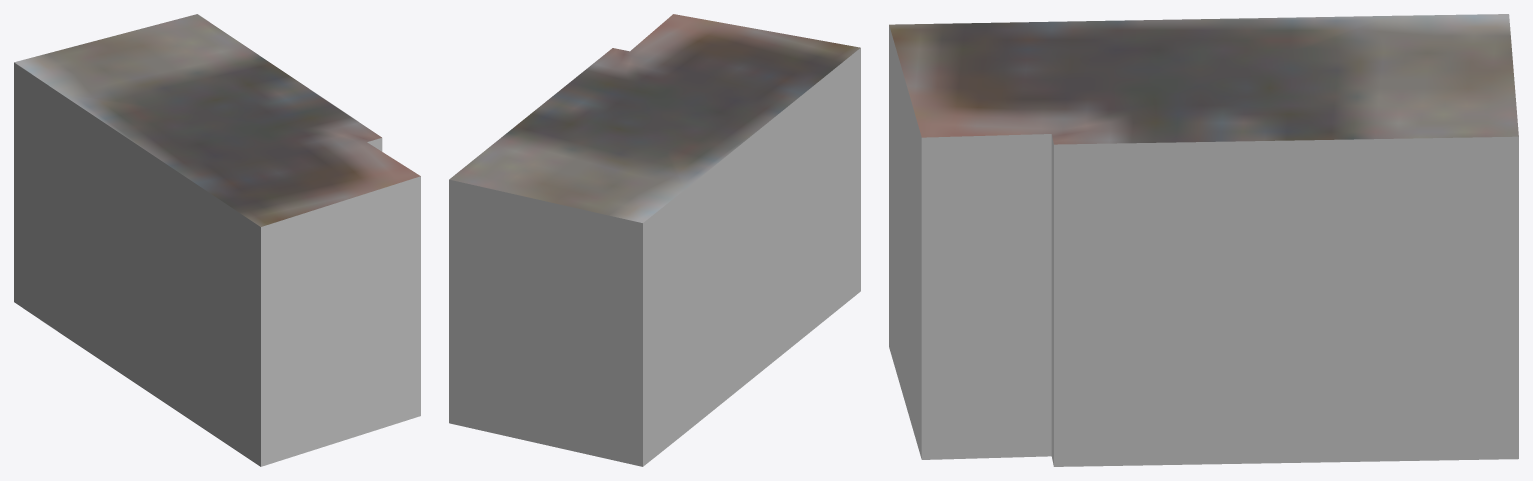
File: DEBW_0010007Tx9l.gltf
3 views of the same model, side by side, from view 1: azimuth 30°, elevation 25°; view 2: azimuth 150°, elevation 25°; view 3: azimuth 270°, elevation 25° (orthographic). The views are drawn at different scales.
Visible parts, largest first — view 1: Z_UP; view 2: Z_UP; view 3: Z_UP.
Boxes of the visible parts, x1,y1,x2,y2 form: Z_UP: (14, 14, 420, 466); Z_UP: (449, 14, 860, 466); Z_UP: (889, 14, 1518, 466).
Size of the model in its own units: 2.83 by 3.26 by 5.77.
2 materials, 1 textured.
